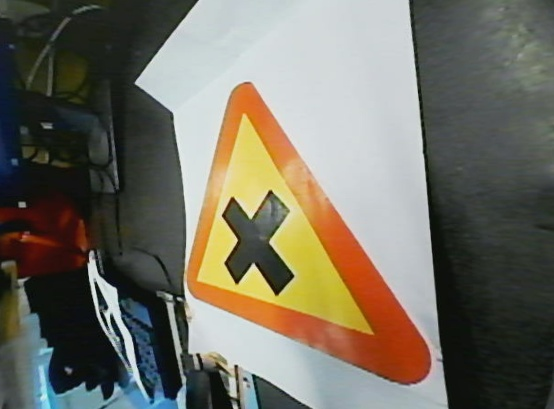junction: (170, 73, 435, 392)
